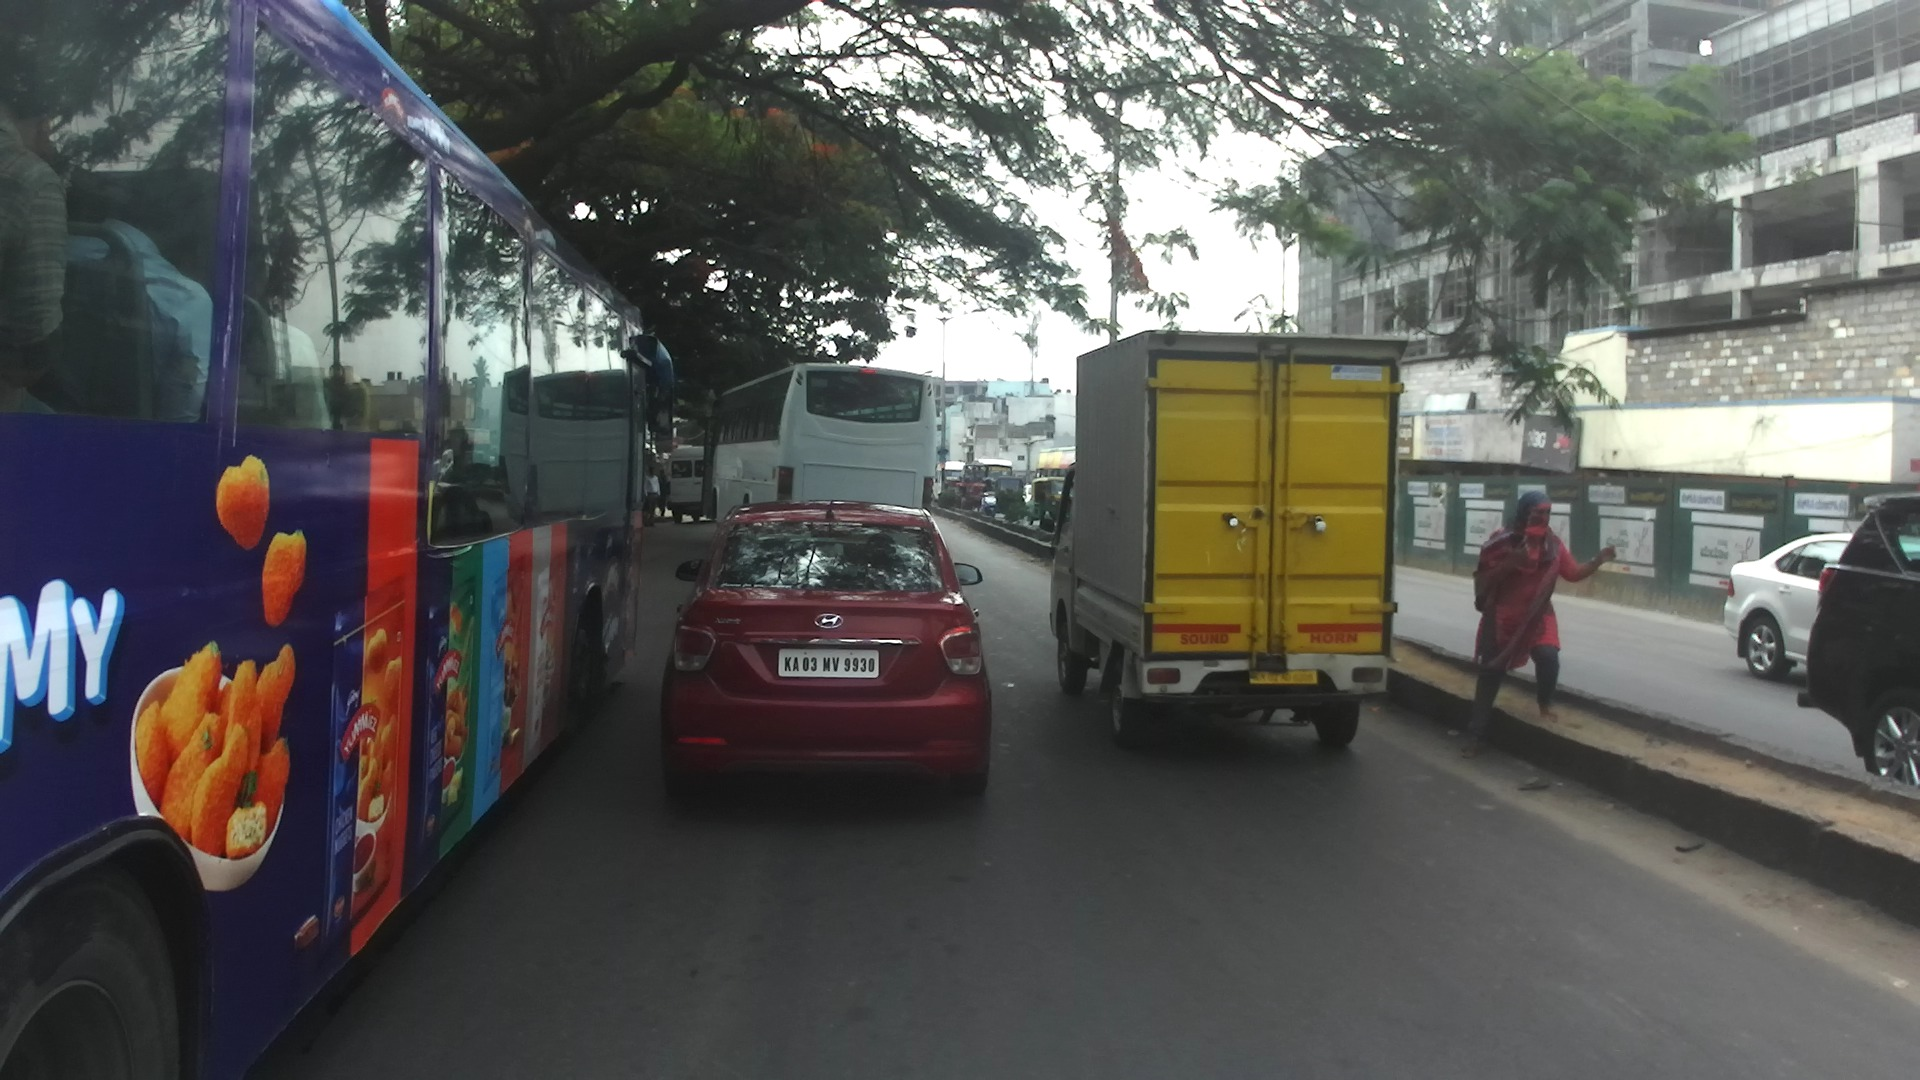autorickshaw: (1028, 477, 1067, 527), (994, 477, 1025, 517)
bus: (1, 1, 685, 1080), (702, 364, 936, 526), (666, 445, 707, 523), (931, 461, 967, 496), (968, 457, 1014, 476), (1034, 463, 1072, 476)
car: (653, 497, 993, 797), (1797, 494, 1920, 784), (1723, 532, 1857, 681), (1021, 481, 1032, 506)
motorcycle: (978, 492, 999, 516)
person: (1464, 490, 1617, 759), (643, 465, 663, 525), (655, 467, 668, 518)
rider: (982, 478, 998, 494)
truck: (1040, 328, 1411, 750)
vehicle fallback: (940, 461, 995, 511)
